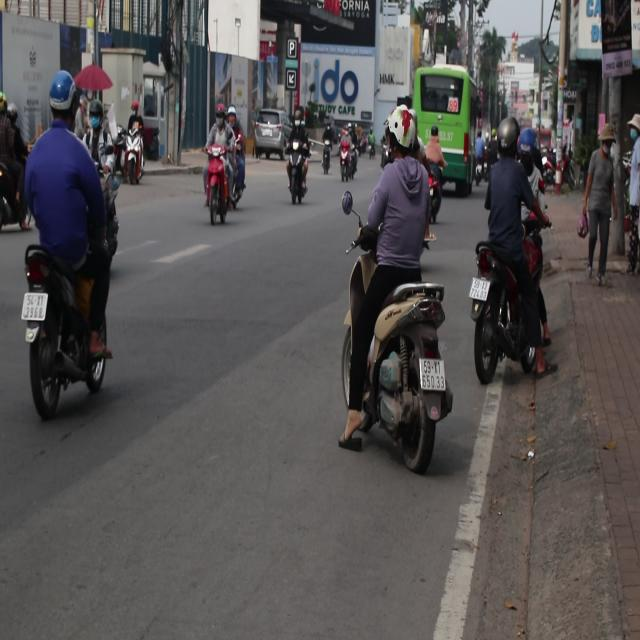bus: (412, 66, 482, 194)
car: (255, 109, 292, 161)
motorbike: (360, 277, 455, 475), (18, 246, 128, 403), (471, 232, 568, 398), (72, 176, 132, 264), (225, 136, 250, 208), (124, 128, 152, 192), (209, 152, 231, 229), (282, 136, 306, 204), (428, 166, 443, 228), (320, 130, 332, 175), (340, 147, 353, 185)
